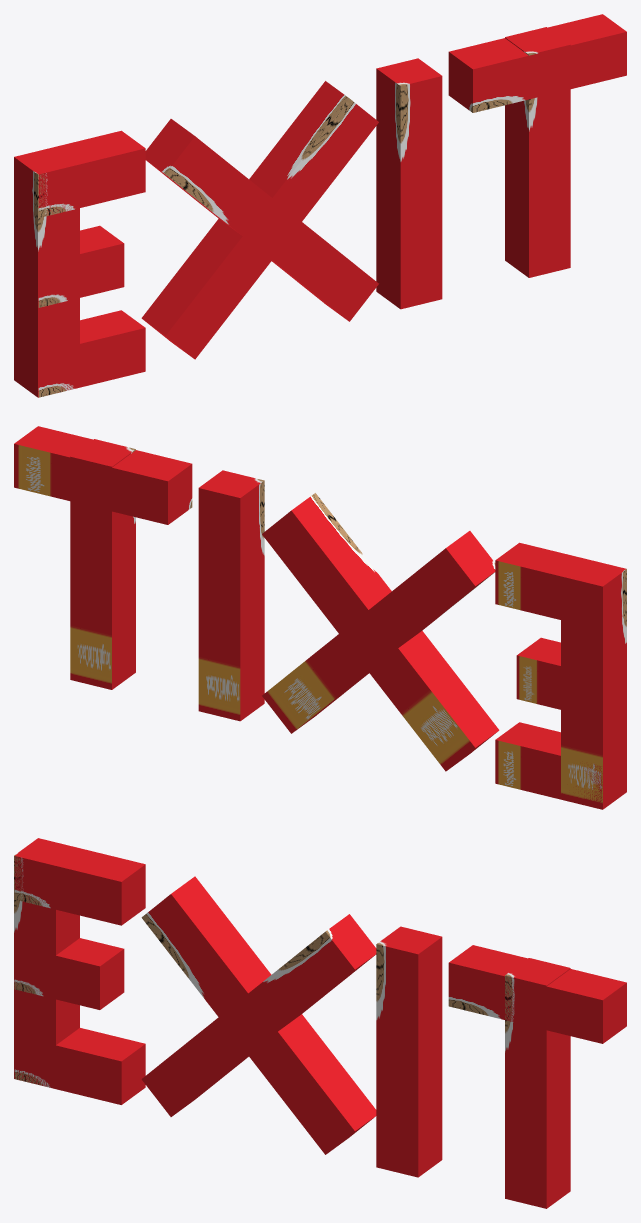
File: Exit.fbx
3 renders of one model, top to bottom at view 1: azimuth 30°, elevation 25°; view 2: azimuth 150°, elevation 25°; view 3: azimuth 330°, elevation 25°, orthographic.
Parts seen in each view (by area): view 1: Exit2; view 2: Exit2; view 3: Exit2.
Boxes of the visible parts, <box> form: Exit2: <box>14,14,626,397</box>; Exit2: <box>14,426,626,809</box>; Exit2: <box>14,838,626,1208</box>.
Size of the model in its own units: 0.0055 by 0.002 by 0.000391.
